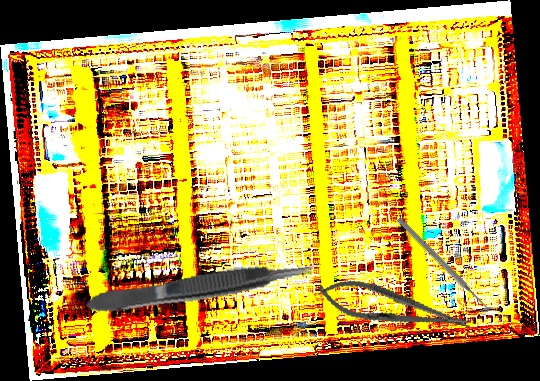Needle Holder: (314, 272, 475, 344)
Pusher: (395, 216, 493, 314)
Tissue Forceps: (83, 255, 322, 318)
